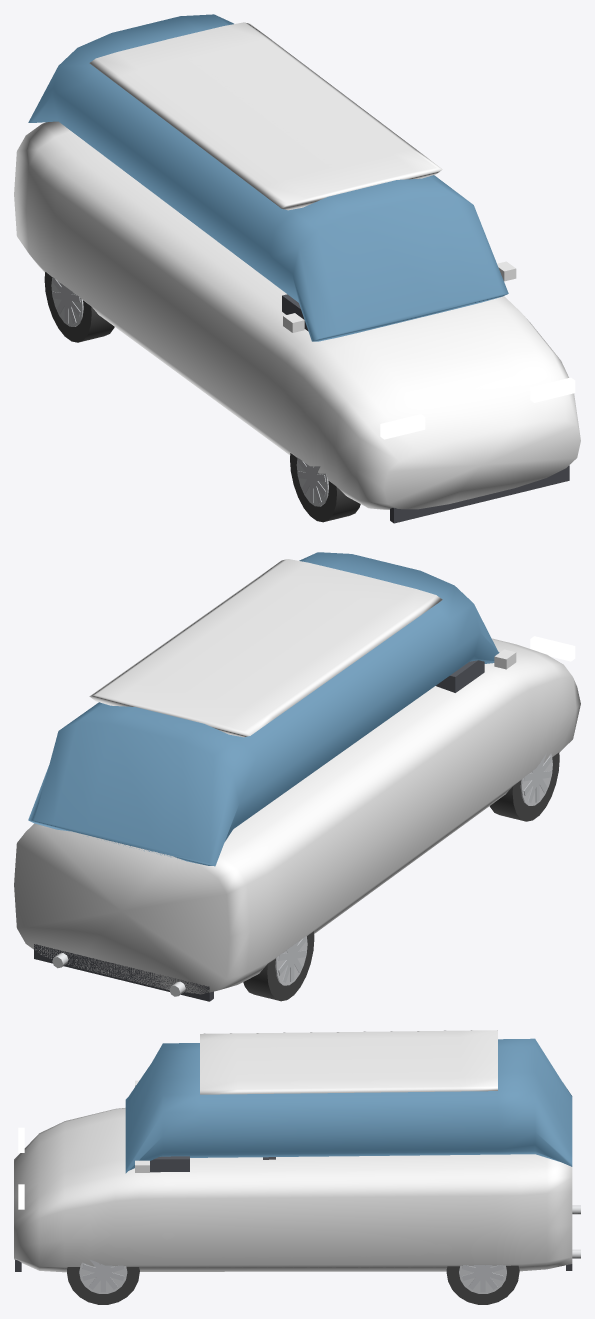
Rendered from traffic_van.glb.
The picture shows the model from 3 angles, top to bottom: view 1: azimuth 30°, elevation 25°; view 2: azimuth 150°, elevation 25°; view 3: azimuth 270°, elevation 25°; orthographic projection. The views are drawn at different scales.
Parts seen in each view (by area): view 1: Body, Glass, Roof, Car_t_van, Wheel_FR, Wheel_RR; view 2: Body, Glass, Roof, Car_t_van, Wheel_RR, Wheel_FR, Interior; view 3: Body, Glass, Roof, Wheel_RL, Wheel_FL, Car_t_van, Interior.
Boxes of the visible parts, x1,y1,x2,y2 form: Body: (14, 121, 580, 509); Glass: (28, 14, 508, 341); Roof: (89, 22, 442, 210); Car_t_van: (283, 261, 575, 523); Wheel_FR: (290, 453, 360, 522); Wheel_RR: (44, 272, 114, 342); Body: (14, 638, 580, 994); Glass: (28, 552, 499, 866); Roof: (89, 559, 442, 737); Car_t_van: (34, 636, 575, 1001); Wheel_RR: (243, 931, 314, 1001); Wheel_FR: (489, 752, 559, 821); Interior: (436, 660, 484, 692); Body: (14, 1108, 572, 1272); Glass: (125, 1038, 572, 1173); Roof: (200, 1030, 497, 1094); Wheel_RL: (446, 1264, 519, 1304); Wheel_FL: (67, 1260, 139, 1304); Car_t_van: (15, 1080, 580, 1271); Interior: (150, 1156, 275, 1172).
Bounding box in the file's own units: 1.95 × 2.11 × 5.28.
